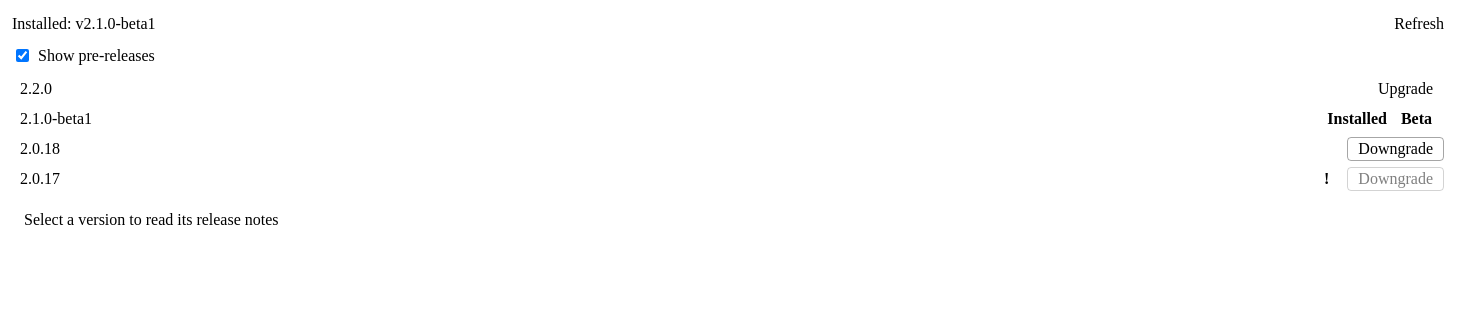
Scenario: VersionsTab › selects the row it acts on, so the downgrade caveat is on screen
The image size is (1464, 317).
Expected: the text "2.0.18" is shown, top-left (20, 140), bottom-right (60, 157)
# No prior click on the row: pressing Downgrade must select it too.
Step 1. Click the button with aria-label "Switch to v2.0.18" → (1396, 149), box top-left (1347, 137), bottom-right (1444, 161)
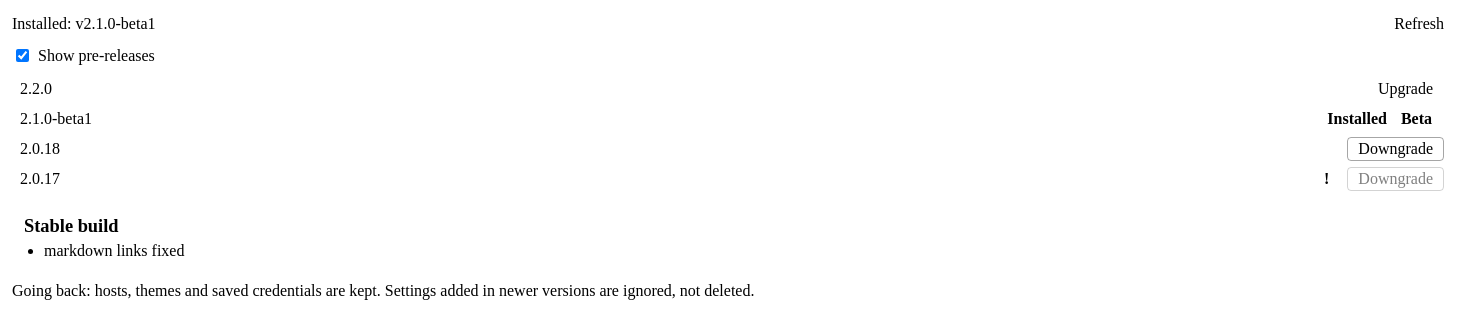
Expected: the text "hosts, themes and saved credentials are kept" is shown, top-left (12, 282), bottom-right (754, 299)
